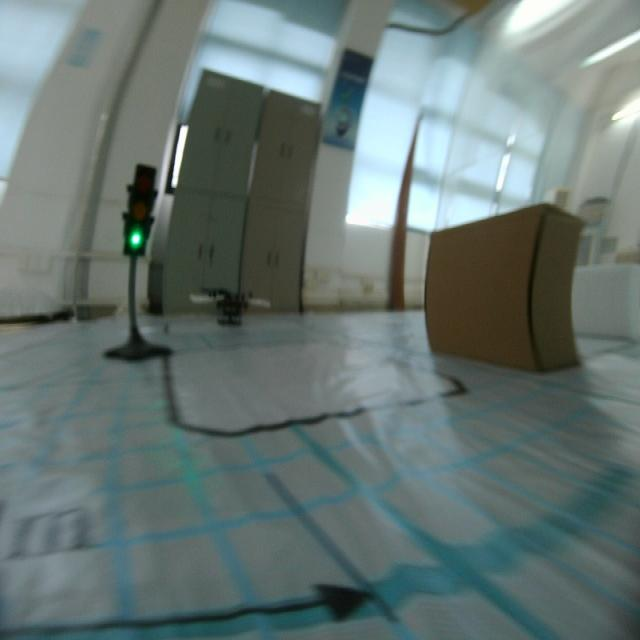green: (121, 154, 157, 264)
